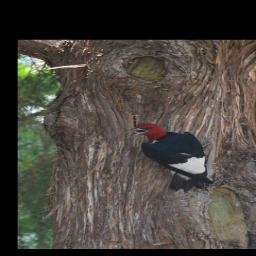Woodpecker: (123, 120, 221, 192)
